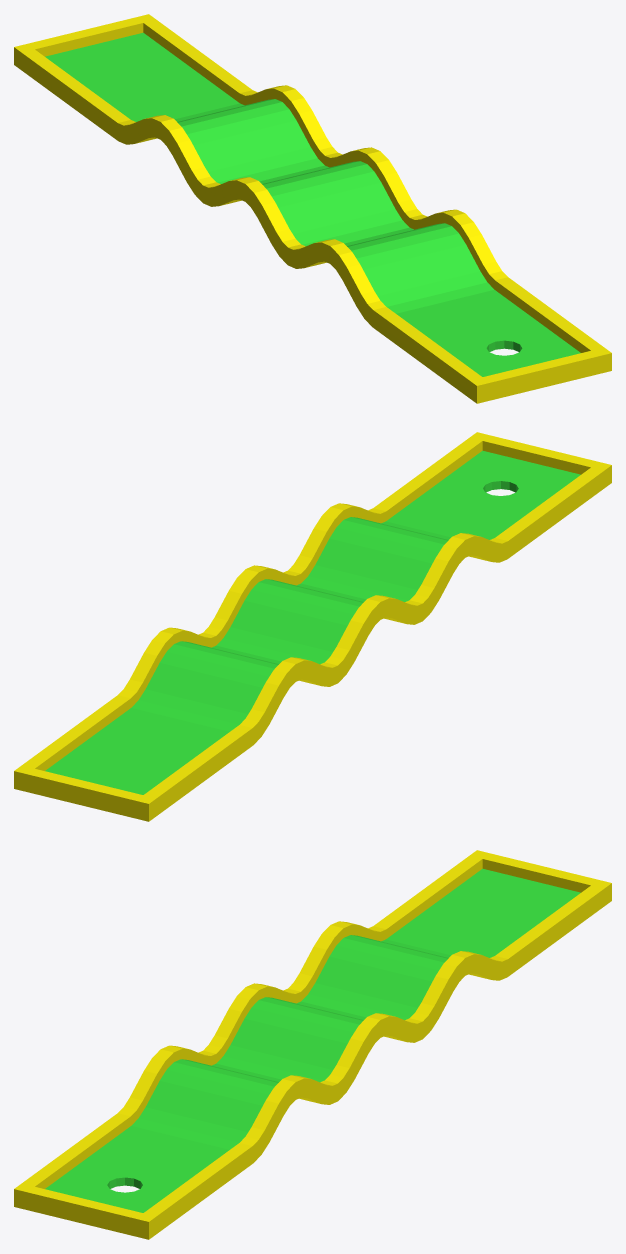
Rendered from Bahn4.fbx.
The picture shows the model from 3 angles, top to bottom: view 1: azimuth 30°, elevation 25°; view 2: azimuth 150°, elevation 25°; view 3: azimuth 330°, elevation 25°; orthographic projection.
Visible parts, largest first — view 1: BahnF2; view 2: BahnF2; view 3: BahnF2.
Part boxes in pixels (<box>): BahnF2: <box>14,14,611,403</box>; BahnF2: <box>14,432,611,821</box>; BahnF2: <box>14,850,611,1239</box>.
Bounding box in the file's own units: 87 × 31 × 517.
